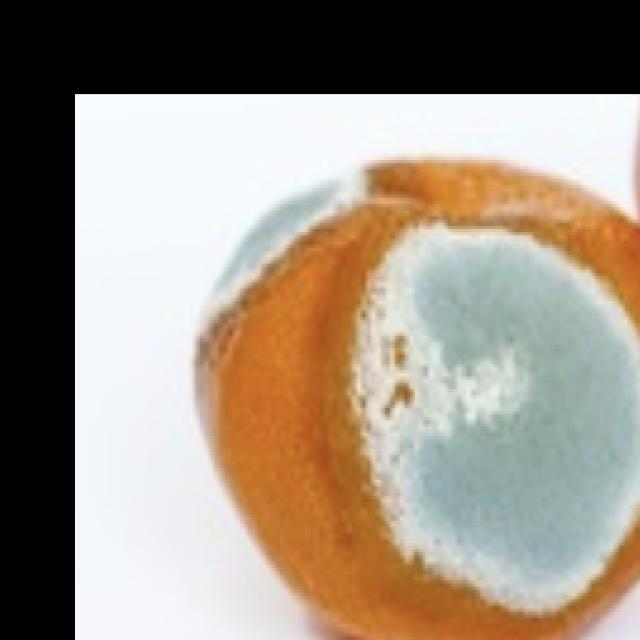sangat-busuk: (194, 157, 639, 639)
